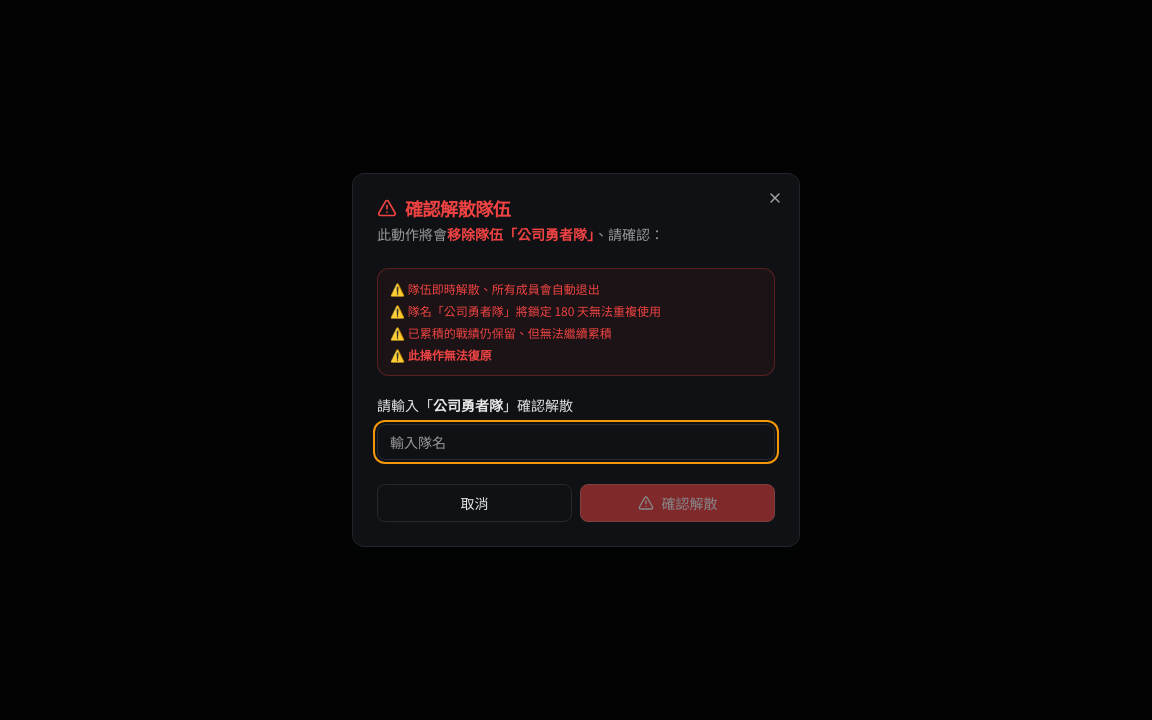
Test case: DisbandSquadDialog › 輸入正確名稱後確認按鈕啟用
In the field with test id "input-disband-confirm-name": (576, 442) [377,424,775,460], type "公司勇者隊"
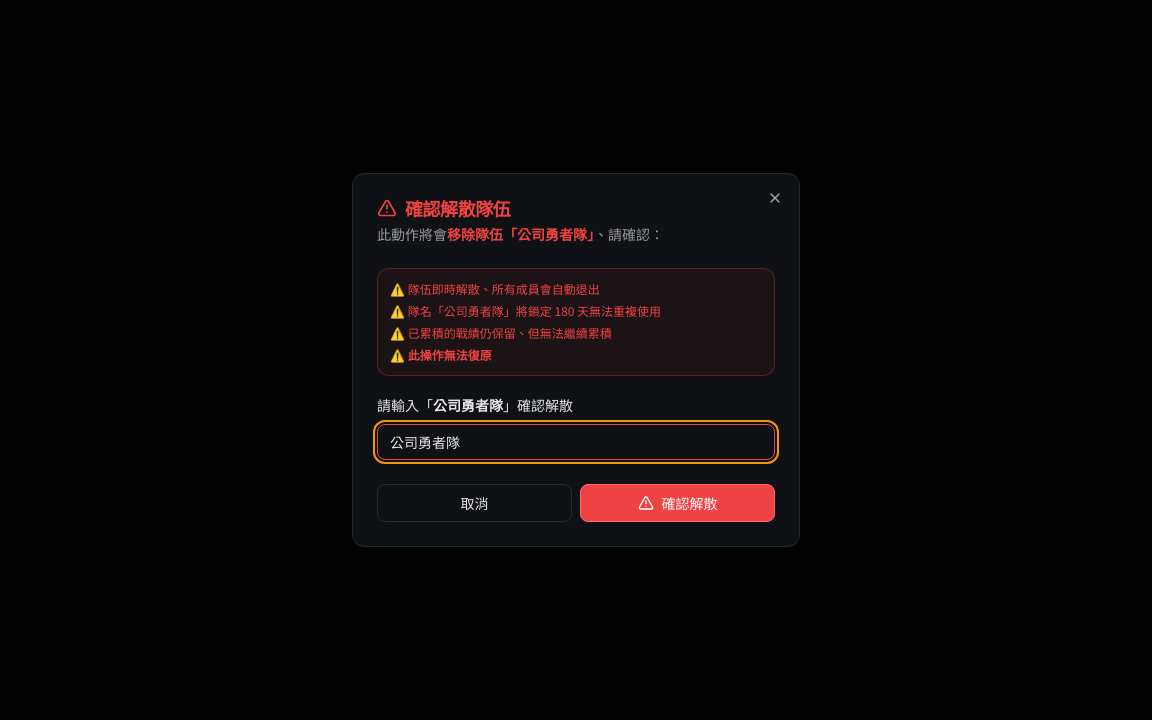
Expected: the button with test id "btn-disband-confirm" is enabled, [580,484,775,522]
